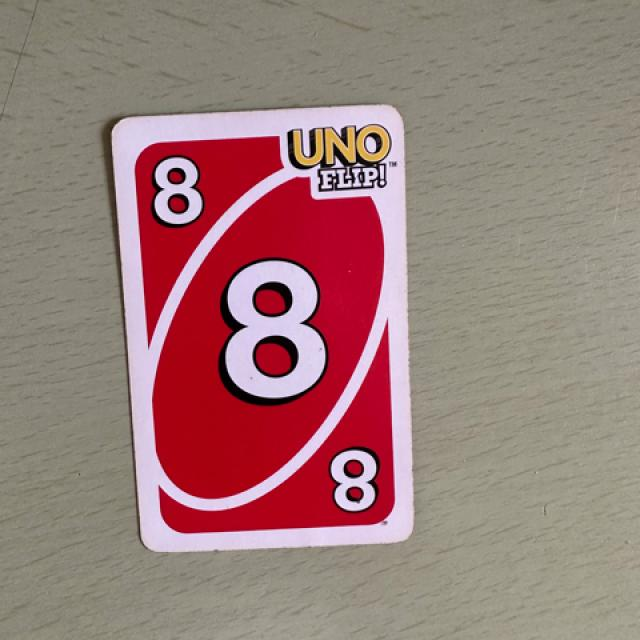lred-8: (122, 130, 226, 250)
